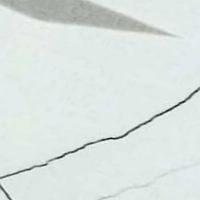crack: (1, 79, 199, 199)
